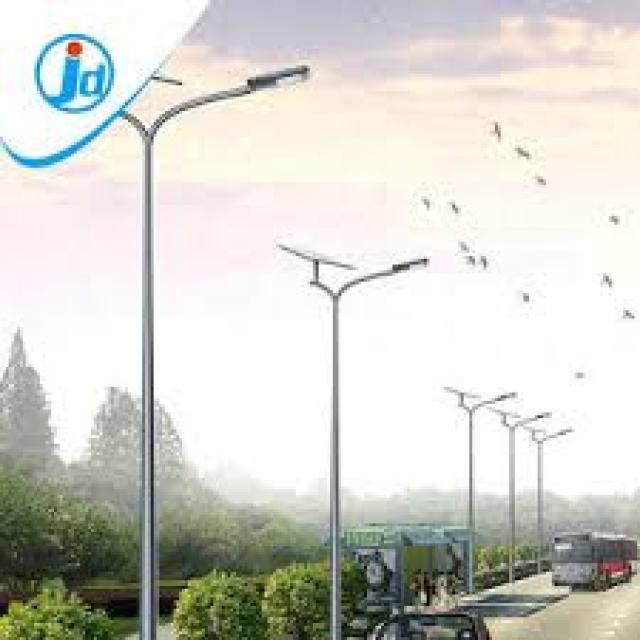Street Light: (136, 59, 318, 640), (330, 253, 429, 640), (461, 390, 520, 588), (506, 410, 549, 574), (532, 427, 572, 566)
